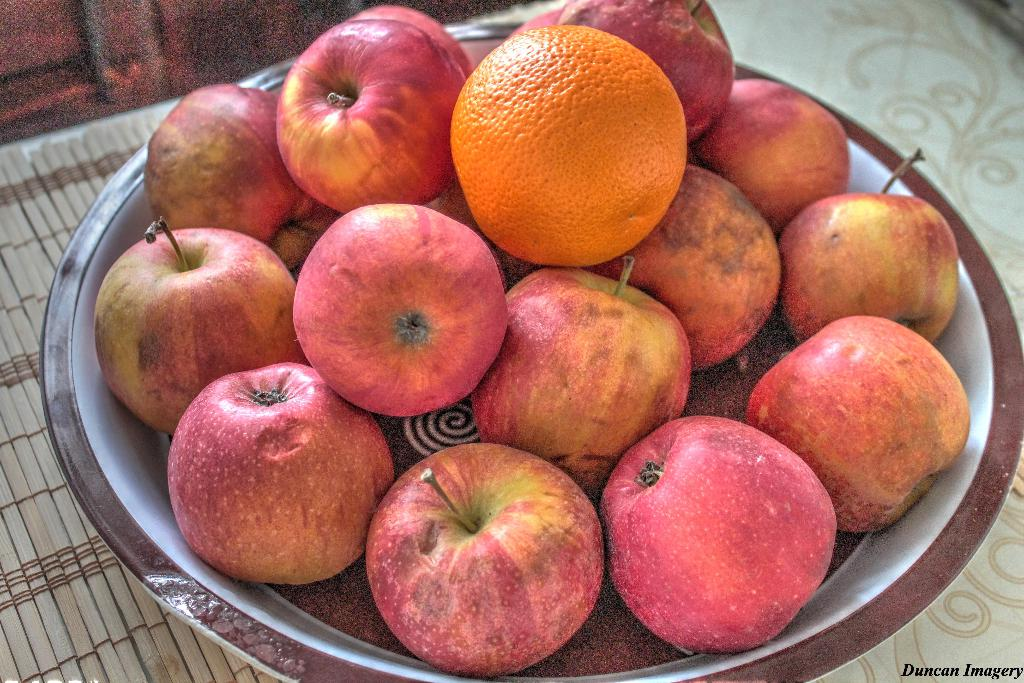Apple: (92, 0, 967, 657), (367, 439, 607, 674)
